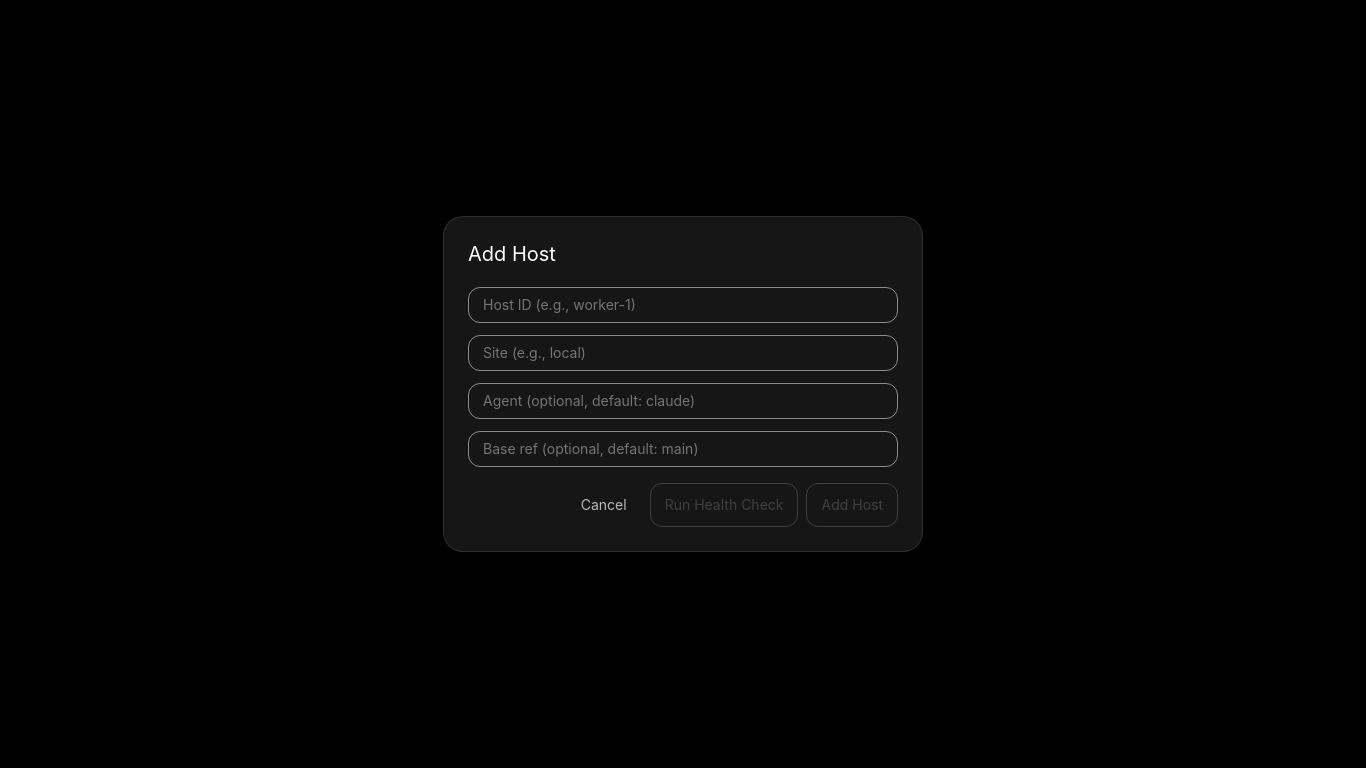
Scenario: AddHostModal › should show auth error message when AuthError is thrown
Type "worker-1" into the field with placeholder "Host ID (e.g., worker-1)".
click(683, 305); type("worker-1")  # box [481,294,885,316]
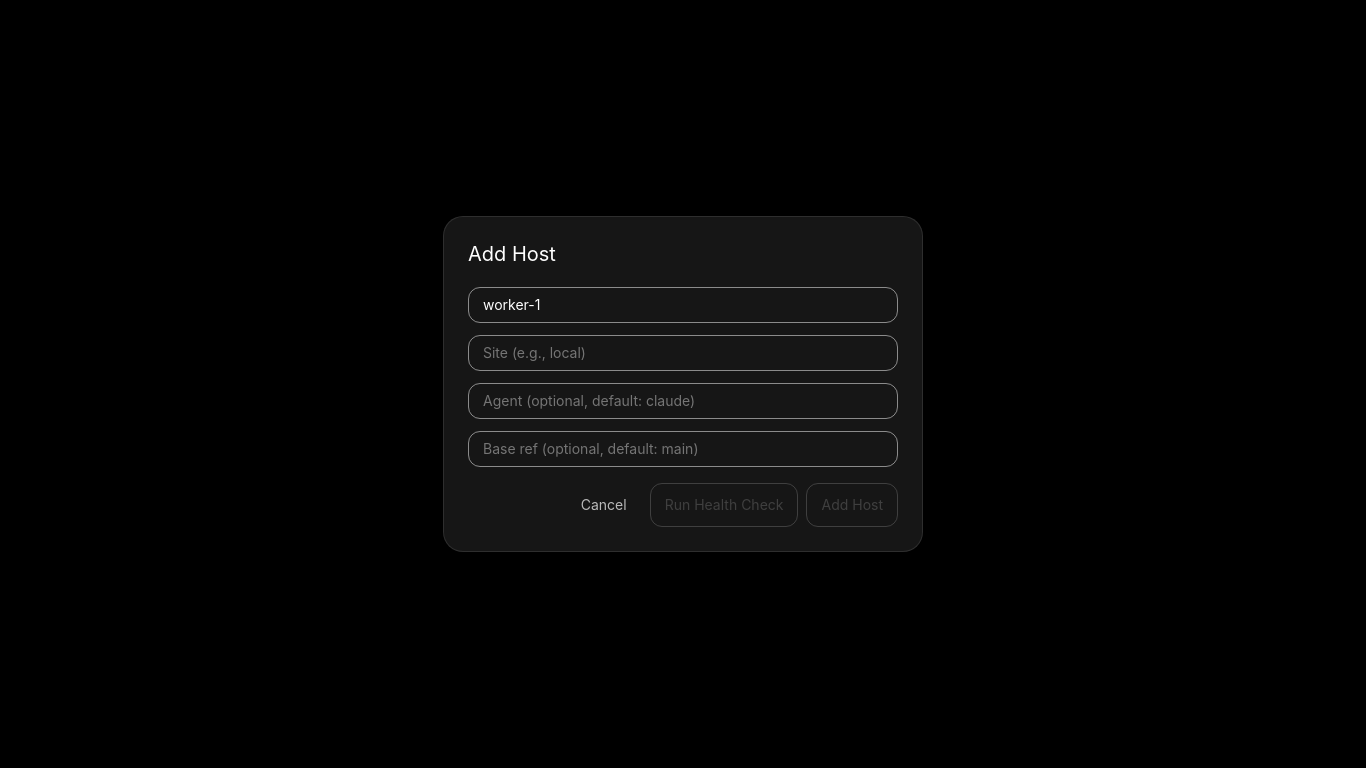
Type "local" into the field with placeholder "Site (e.g., local)".
click(683, 353); type("local")  # box [481,342,885,364]
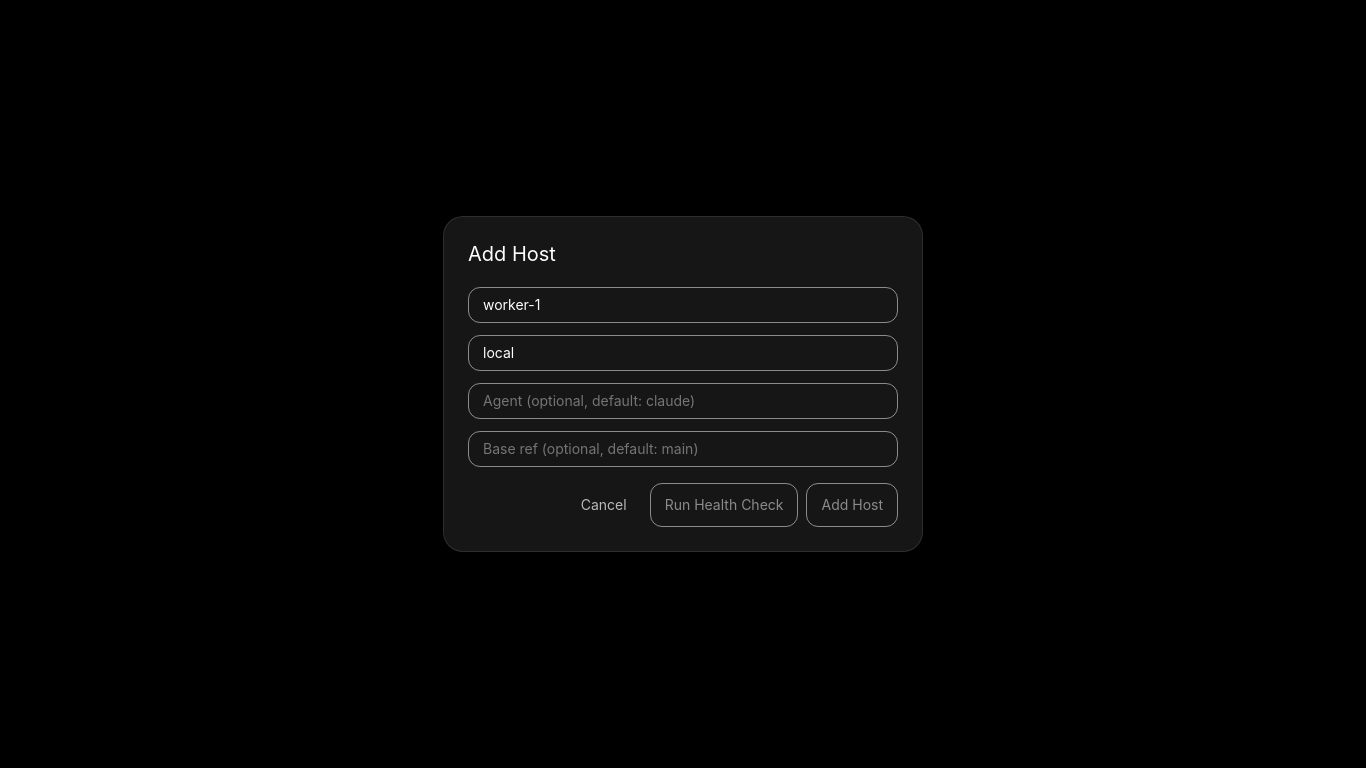
Click the button "Run Health Check".
click(724, 505)  # box [650,483,798,527]
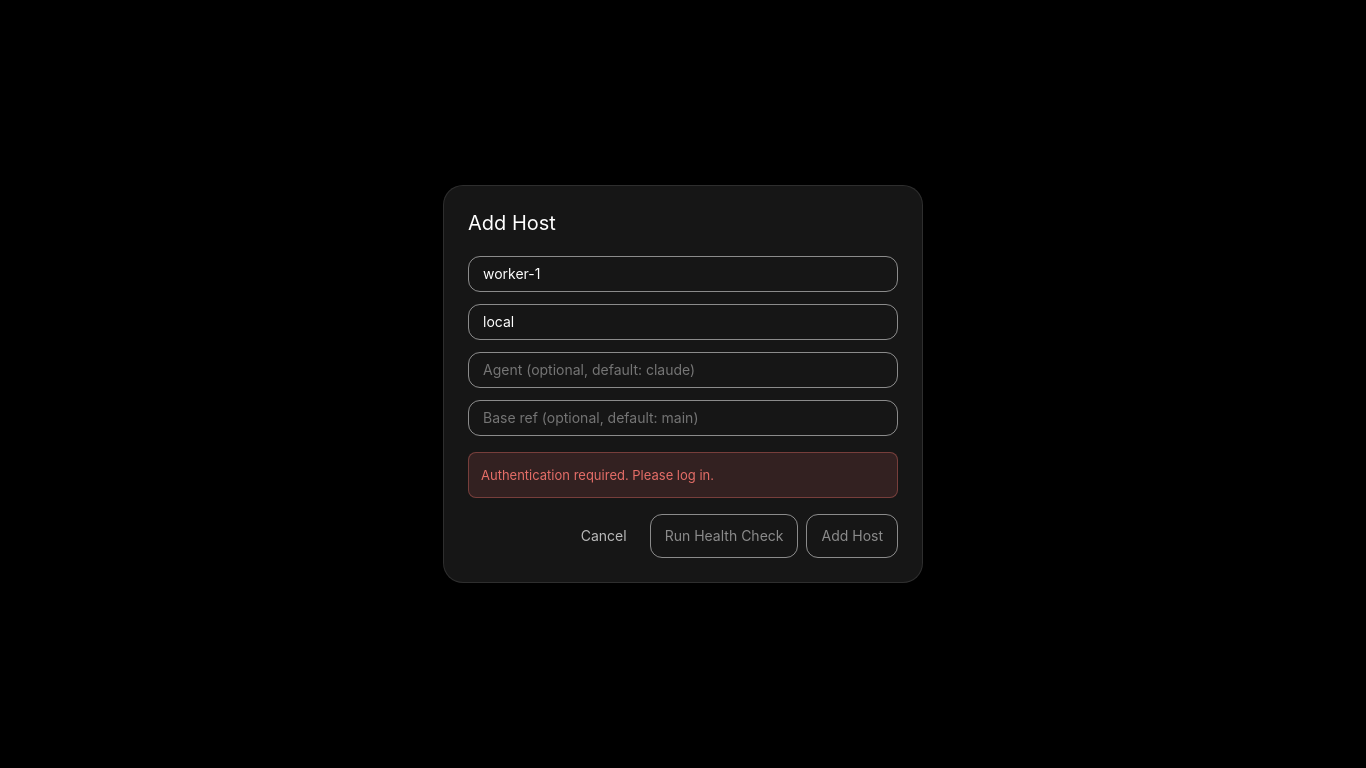
Check: the text "Authentication required. Please log in." is shown, box [468,452,898,498]
